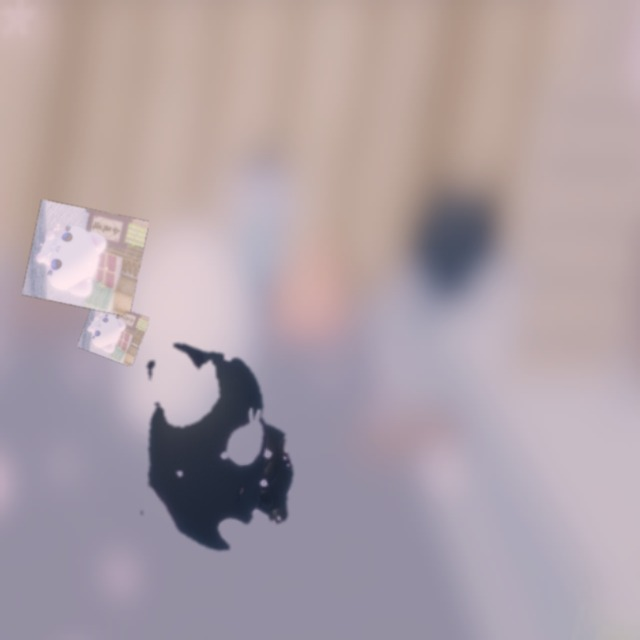urso_branco: (22, 199, 149, 317), (77, 298, 150, 367)
urso_preto: (105, 302, 323, 593)
